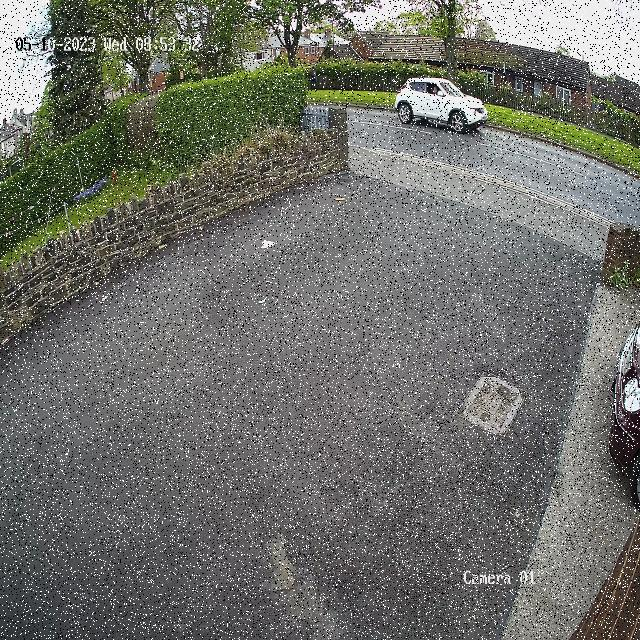vehicle: (394, 65, 492, 139)
